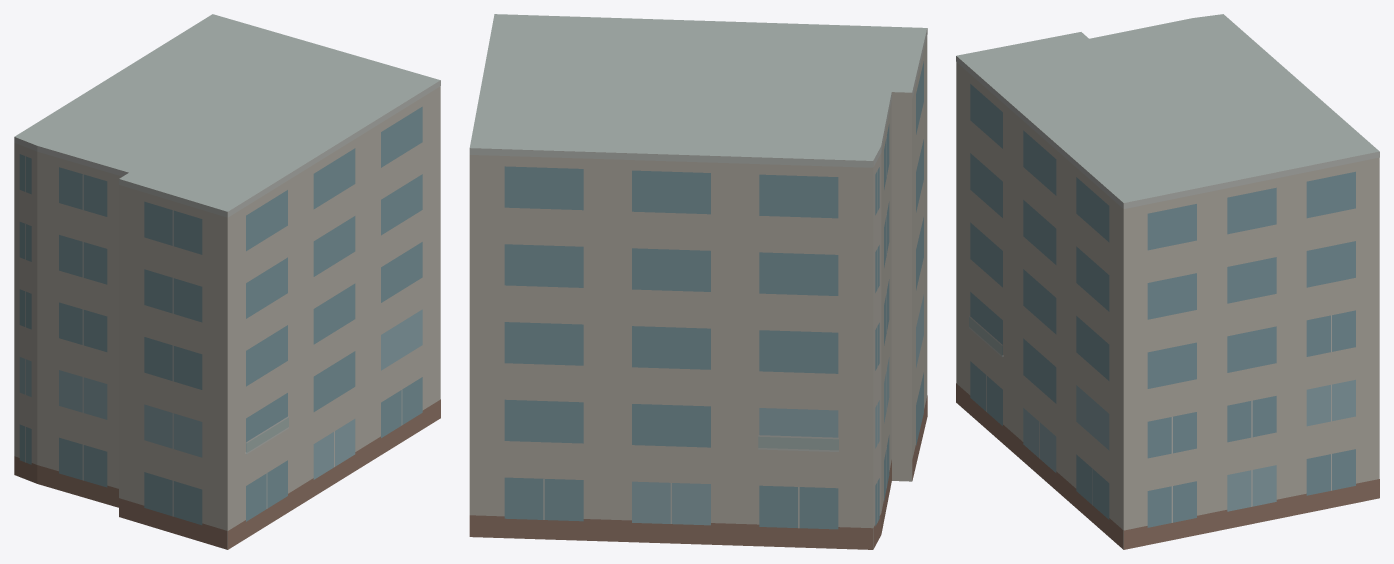
File: survey-upis-32938410.glb
3 views of the same model, side by side, from view 1: azimuth 30°, elevation 25°; view 2: azimuth 150°, elevation 25°; view 3: azimuth 270°, elevation 25° (orthographic). The views are drawn at different scales.
Parts seen in each view (by area): view 1: survey-upis-32938410.tmp; view 2: survey-upis-32938410.tmp; view 3: survey-upis-32938410.tmp.
Boxes of the visible parts, left/top/right/bottom form: survey-upis-32938410.tmp: left=14, top=14, right=440, bottom=549; survey-upis-32938410.tmp: left=469, top=14, right=927, bottom=549; survey-upis-32938410.tmp: left=956, top=14, right=1379, bottom=549.
Bounding box in the file's own units: 16.39 × 14 × 15.51.
